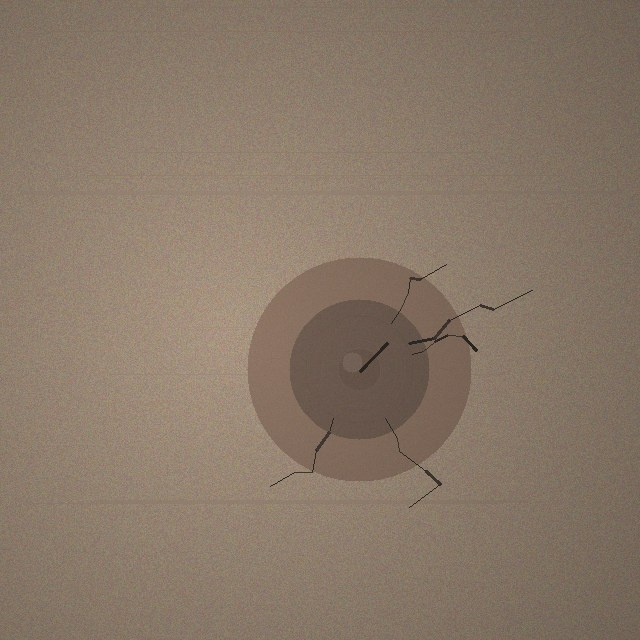crack: (247, 257, 471, 481)
